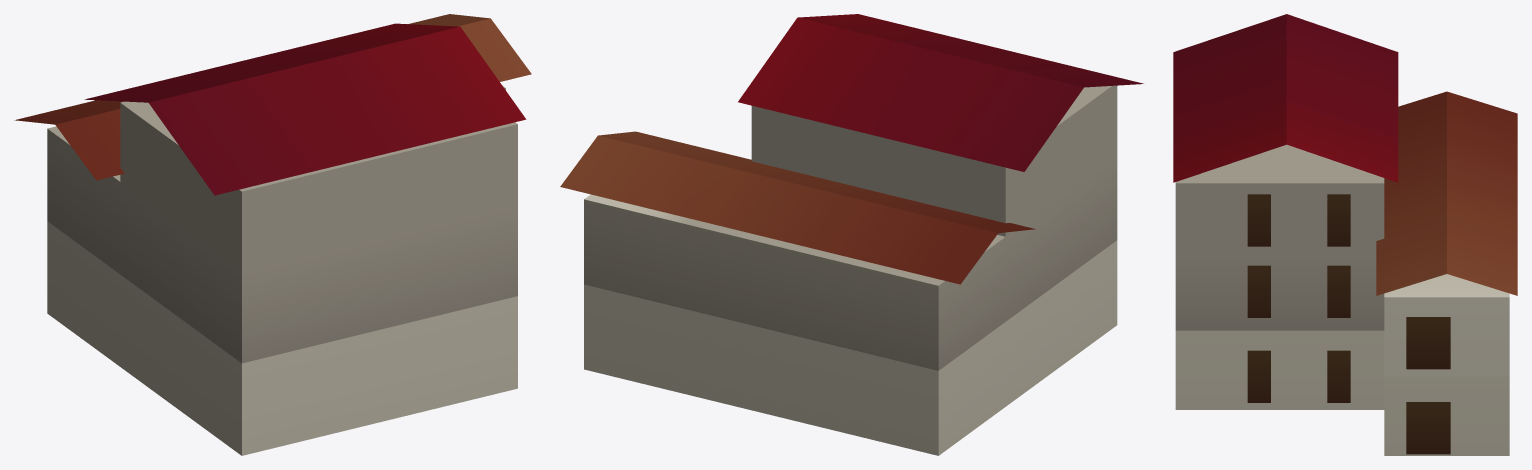
The model's file is SM_City_Building_10.fbx.
3 renders of one model, left to right at view 1: azimuth 30°, elevation 25°; view 2: azimuth 150°, elevation 25°; view 3: azimuth 270°, elevation 25°, orthographic. The views are drawn at different scales.
Parts seen in each view (by area): view 1: SM_City_Building_10; view 2: SM_City_Building_10; view 3: SM_City_Building_10.
Boxes of the visible parts, x1,y1,x2,y2 form: SM_City_Building_10: (14,14,531,455); SM_City_Building_10: (560,14,1143,455); SM_City_Building_10: (1173,14,1517,455).
Bounding box in the file's own units: 3.45 × 2.37 × 2.75.
